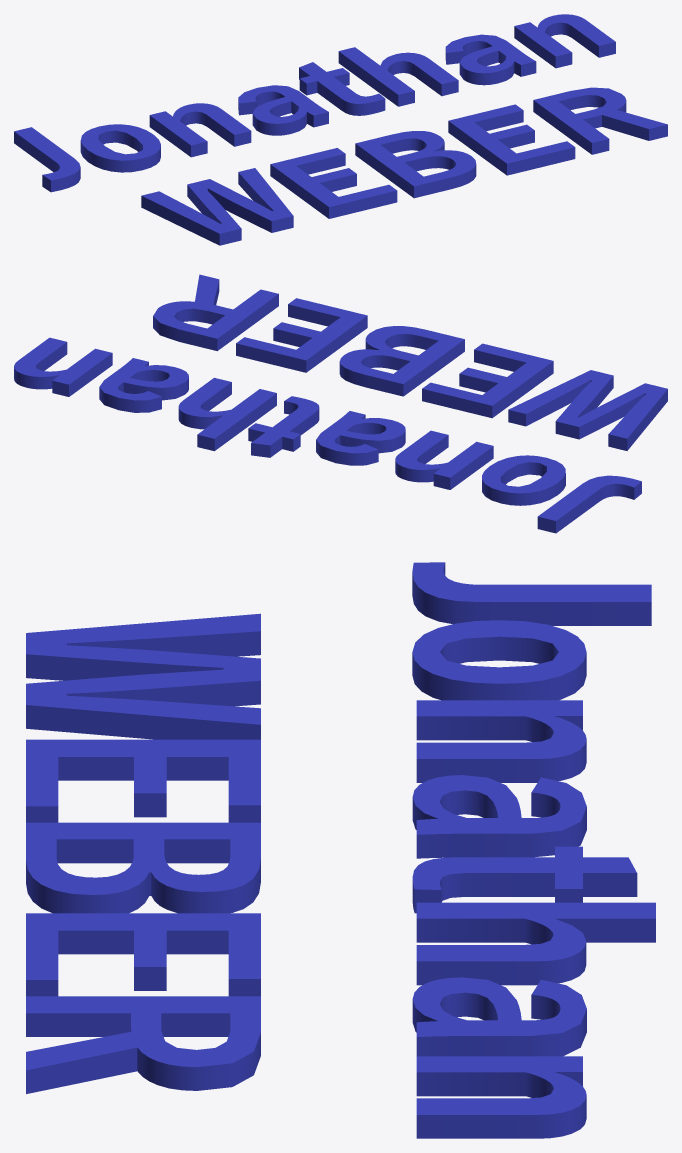
The model's file is jonathanweber.fbx.
3 views of the same model, one above another, from view 1: azimuth 30°, elevation 25°; view 2: azimuth 150°, elevation 25°; view 3: azimuth 270°, elevation 25° (orthographic). The views are drawn at different scales.
Visible parts, largest first — view 1: node_id376 (×2); view 2: node_id376 (×2); view 3: node_id376 (×2).
Part boxes in pixels (x1,y1,x2,y2): node_id376 (×2): [14, 14, 667, 245]; node_id376 (×2): [14, 274, 667, 533]; node_id376 (×2): [26, 562, 655, 1138].
Bounding box in the file's own units: 0.9333 × 0.0188 × 0.4495.
